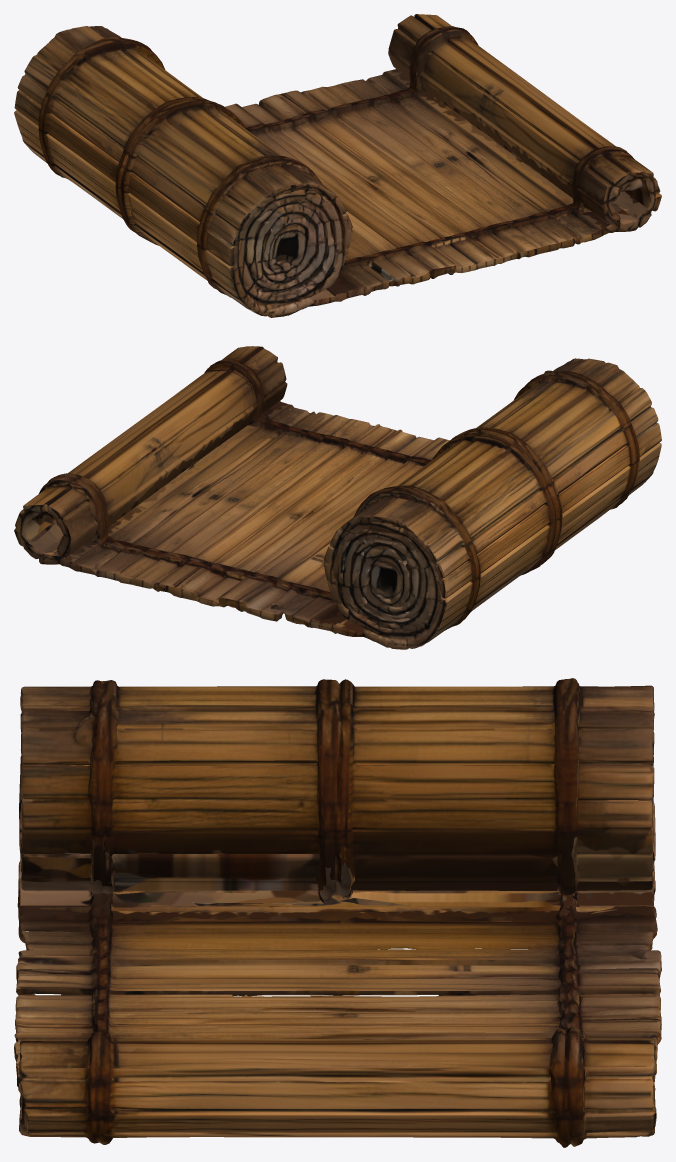
The model's file is bamboo-slips.glb.
The picture shows the model from 3 angles, top to bottom: view 1: azimuth 30°, elevation 25°; view 2: azimuth 150°, elevation 25°; view 3: azimuth 270°, elevation 25°; orthographic projection. The views are drawn at different scales.
Visible parts, largest first — view 1: 1_output_1793511797346417_utNeojBVX; view 2: 1_output_1793511797346417_utNeojBVX; view 3: 1_output_1793511797346417_utNeojBVX.
Part boxes in pixels (x1,y1,x2,y2): 1_output_1793511797346417_utNeojBVX: [14, 14, 661, 317]; 1_output_1793511797346417_utNeojBVX: [14, 346, 661, 649]; 1_output_1793511797346417_utNeojBVX: [14, 678, 661, 1147].
Size of the model in its own units: 1.97 by 0.6178 by 1.72.
Materials: 1 (1 with a texture image).
